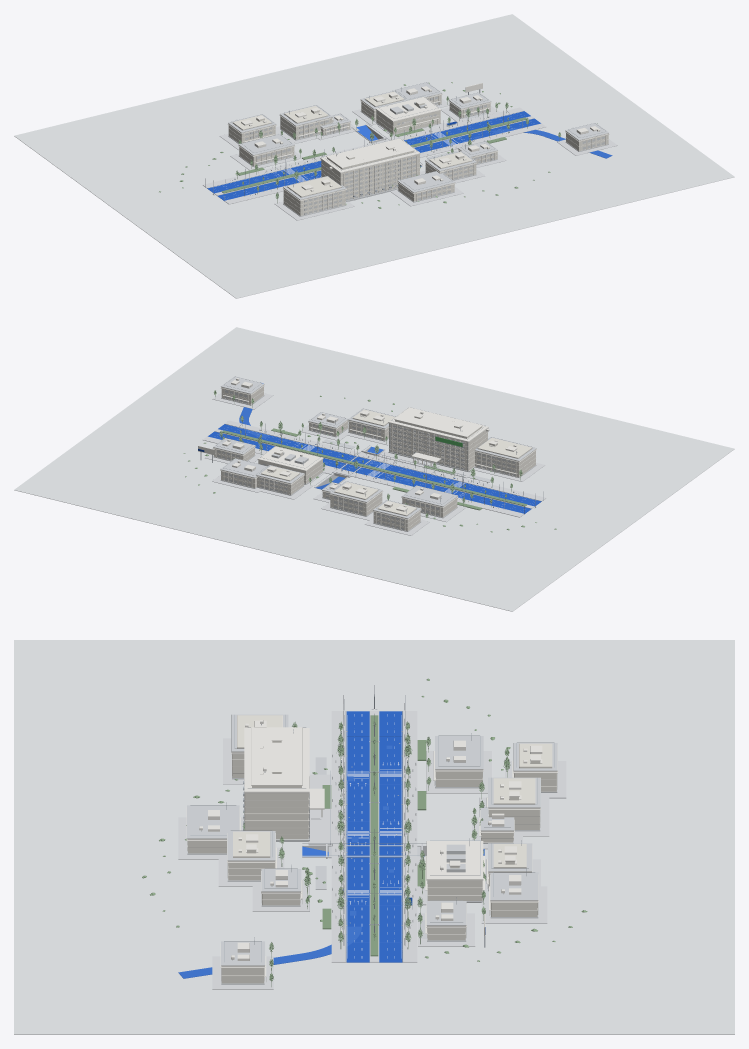
Rendered from awolowo_lowpoly_env.glb.
The picture shows the model from 3 angles, top to bottom: view 1: azimuth 30°, elevation 25°; view 2: azimuth 150°, elevation 25°; view 3: azimuth 270°, elevation 25°; orthographic projection. The views are drawn at different scales.
Visible parts, largest first — view 1: ENV_Ground_merged, ENV_Buildings_Secondary_merged, ENV_Buildings_Main_merged, ENV_Pavements_merged, ENV_Roads_merged, ENV_Vegetation_merged, ENV_StreetFurniture_merged; view 2: ENV_Ground_merged, ENV_Buildings_Secondary_merged, ENV_Pavements_merged, ENV_Buildings_Main_merged, ENV_Roads_merged, ENV_Vegetation_merged, ENV_StreetFurniture_merged; view 3: ENV_Ground_merged, ENV_Buildings_Secondary_merged, ENV_Pavements_merged, ENV_Roads_merged, ENV_Buildings_Main_merged, ENV_Vegetation_merged, ENV_StreetFurniture_merged.
Part boxes in pixels (x1,y1,x2,y2): ENV_Ground_merged: (14,14,734,298); ENV_Buildings_Secondary_merged: (228,82,609,216); ENV_Buildings_Main_merged: (320,96,441,201); ENV_Pavements_merged: (203,99,617,220); ENV_Roads_merged: (207,111,612,200); ENV_Vegetation_merged: (159,82,597,208); ENV_StreetFurniture_merged: (205,83,522,201); ENV_Ground_merged: (14,327,734,611); ENV_Buildings_Secondary_merged: (213,376,536,531); ENV_Pavements_merged: (203,392,545,535); ENV_Buildings_Main_merged: (257,407,489,484); ENV_Roads_merged: (208,383,541,513); ENV_Vegetation_merged: (183,390,556,532); ENV_StreetFurniture_merged: (198,423,543,514); ENV_Ground_merged: (14,640,734,1034); ENV_Buildings_Secondary_merged: (186,714,557,984); ENV_Pavements_merged: (178,711,566,989); ENV_Roads_merged: (178,711,484,978); ENV_Buildings_Main_merged: (243,720,484,902); ENV_Vegetation_merged: (142,678,587,986); ENV_StreetFurniture_merged: (302,685,485,947).
Size of the model in its own units: 440 by 37.7 by 340.
